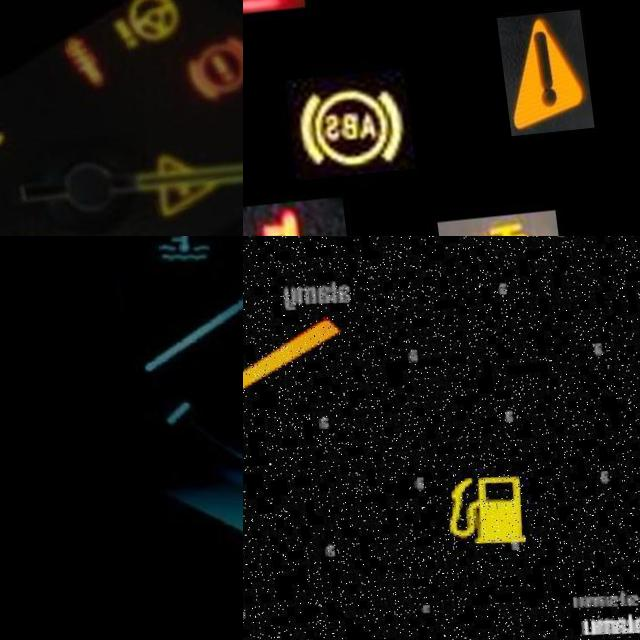Central Warning lamp: (490, 19, 585, 144)
Engine cooling system: (133, 236, 225, 284), (243, 200, 342, 236)
